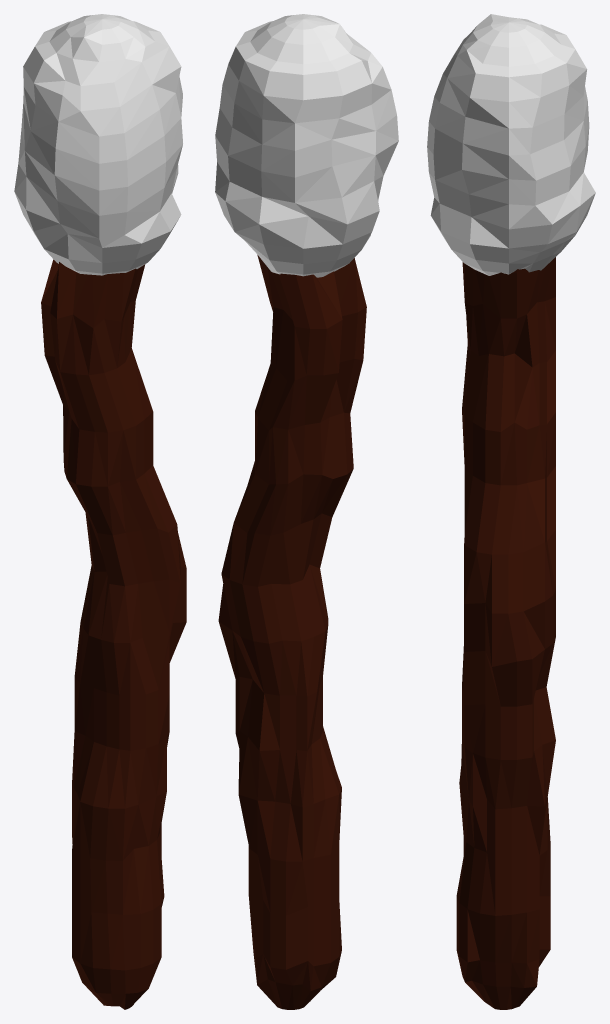
Rendered from Tourch.fbx.
The picture shows the model from 3 angles, left to right: view 1: azimuth 30°, elevation 25°; view 2: azimuth 150°, elevation 25°; view 3: azimuth 270°, elevation 25°; orthographic projection.
Visible parts, largest first — view 1: Cylinder; view 2: Cylinder; view 3: Cylinder.
Boxes of the visible parts, x1,y1,x2,y2 form: Cylinder: [14, 14, 186, 1009]; Cylinder: [215, 14, 398, 1009]; Cylinder: [427, 14, 595, 1009].
Bounding box in the file's own units: 190 × 1143 × 179.
